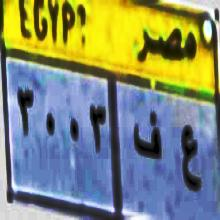0: (42, 97, 58, 144), (66, 113, 81, 152)
3: (15, 82, 37, 148), (89, 99, 107, 164)
ain: (179, 116, 201, 205)
faa: (130, 105, 165, 166)
